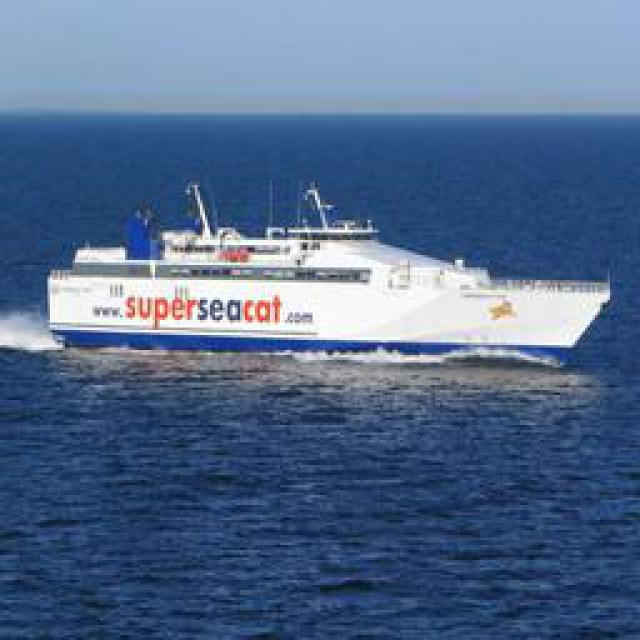Ship: (44, 181, 614, 364)
